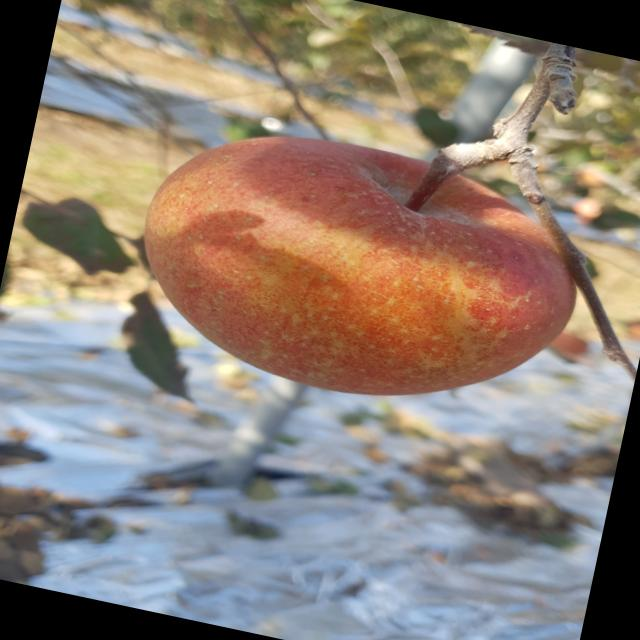fresh: (104, 95, 619, 447)
